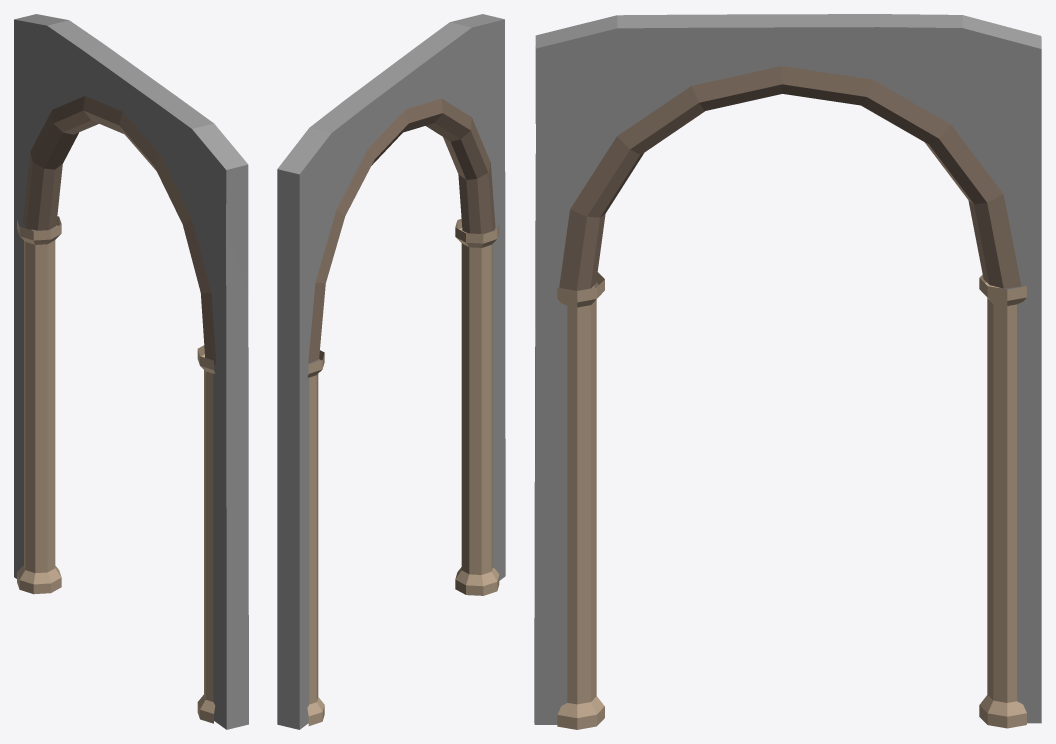
The model's file is wall_11.fbx.
The picture shows the model from 3 angles, left to right: view 1: azimuth 30°, elevation 25°; view 2: azimuth 150°, elevation 25°; view 3: azimuth 270°, elevation 25°; orthographic projection. The views are drawn at different scales.
Visible parts, largest first — view 1: Object.025; view 2: Object.025; view 3: Object.025.
Part boxes in pixels (box(x1,y1,x2,y2)): Object.025: box(14, 14, 248, 729); Object.025: box(277, 14, 505, 729); Object.025: box(534, 14, 1041, 729).
Size of the model in its own units: 114 by 1482 by 978.
